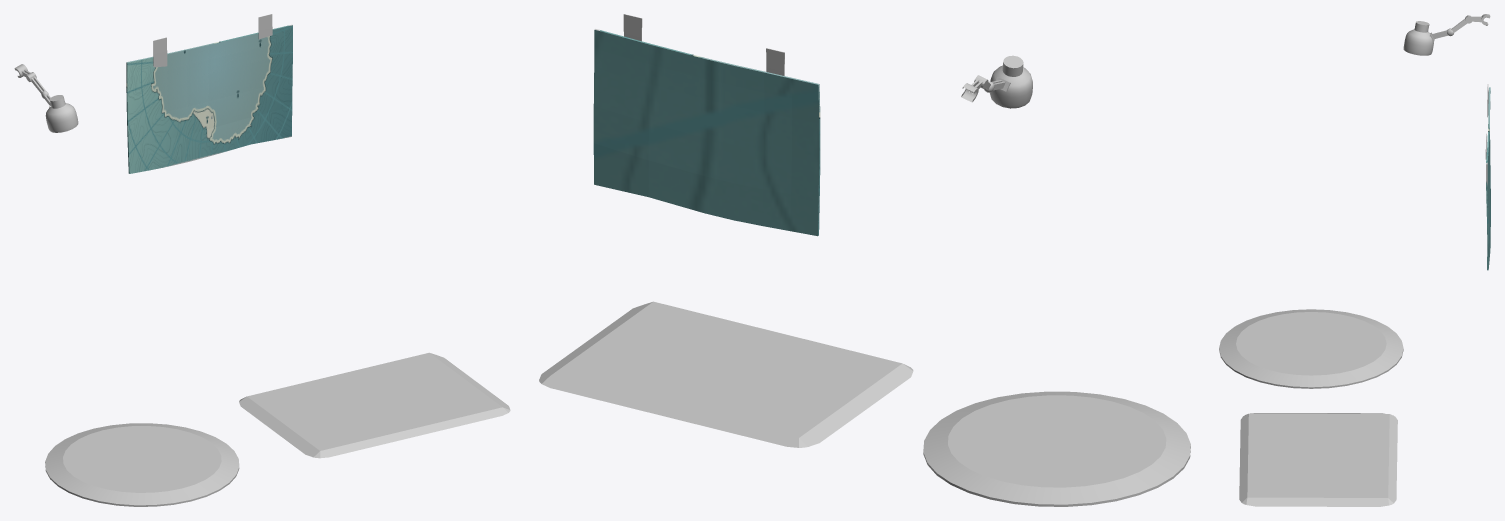
The model's file is Tent_Wall+Floor_Objs.fbx.
The picture shows the model from 3 angles, left to right: view 1: azimuth 30°, elevation 25°; view 2: azimuth 150°, elevation 25°; view 3: azimuth 270°, elevation 25°; orthographic projection. The views are drawn at different scales.
Parts seen in each view (by area): view 1: map_v1.001, doorMat_v1, floorMat_v1, deskLamp_v2.001; view 2: map_v1.001, doorMat_v1, floorMat_v1, deskLamp_v2.001; view 3: doorMat_v1, floorMat_v1, deskLamp_v2.001, map_v1.001.
Part boxes in pixels (<box>): map_v1.001: <box>126,14,292,173</box>; doorMat_v1: <box>239,352,510,458</box>; floorMat_v1: <box>45,423,239,506</box>; deskLamp_v2.001: <box>41,90,78,132</box>; map_v1.001: <box>593,14,820,236</box>; doorMat_v1: <box>539,301,913,447</box>; floorMat_v1: <box>923,391,1190,506</box>; deskLamp_v2.001: <box>984,55,1032,108</box>; doorMat_v1: <box>1239,413,1397,506</box>; floorMat_v1: <box>1219,309,1403,388</box>; deskLamp_v2.001: <box>1403,21,1453,55</box>; map_v1.001: <box>1485,84,1490,270</box>.
Bounding box in the file's own units: 2.89 × 2.22 × 1.7.
